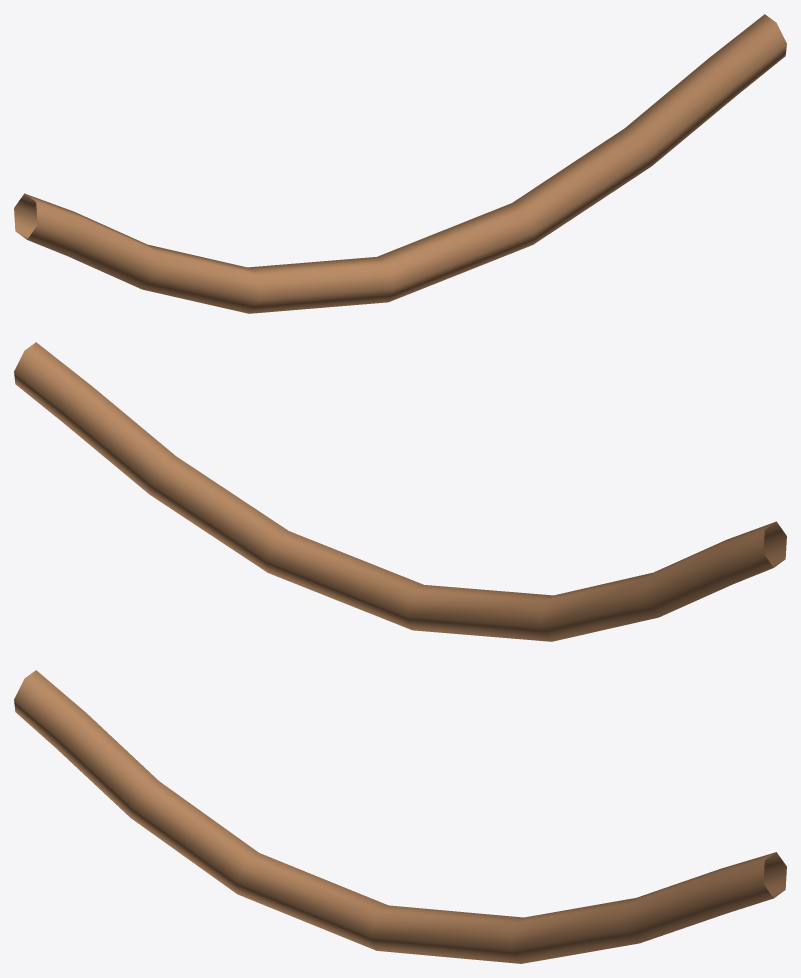
File: SM_RopeDock.fbx
3 renders of one model, top to bottom at view 1: azimuth 30°, elevation 25°; view 2: azimuth 150°, elevation 25°; view 3: azimuth 330°, elevation 25°, orthographic.
Visible parts, largest first — view 1: SM_RopeDock; view 2: SM_RopeDock; view 3: SM_RopeDock.
Part boxes in pixels (box(x1,y1,x2,y2)): SM_RopeDock: box(14, 14, 786, 313); SM_RopeDock: box(14, 342, 786, 641); SM_RopeDock: box(14, 670, 786, 963).
Bounding box in the file's own units: 2.24 × 0.5247 × 0.12.
